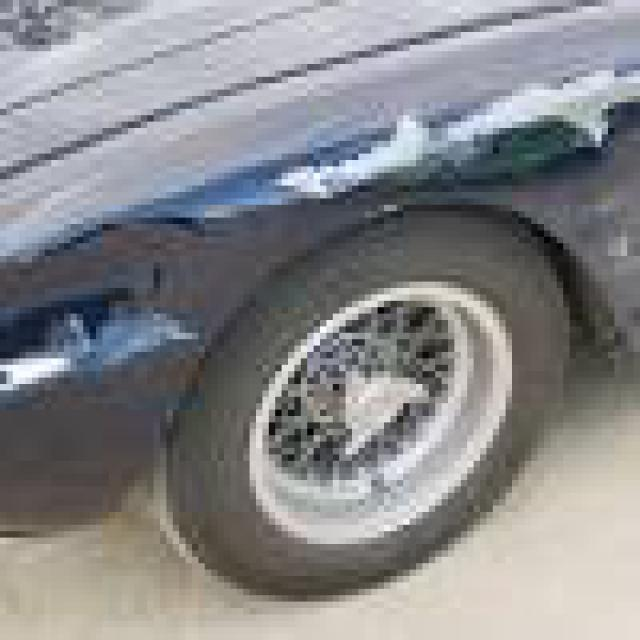front-bumper-dent: (198, 25, 634, 378)
